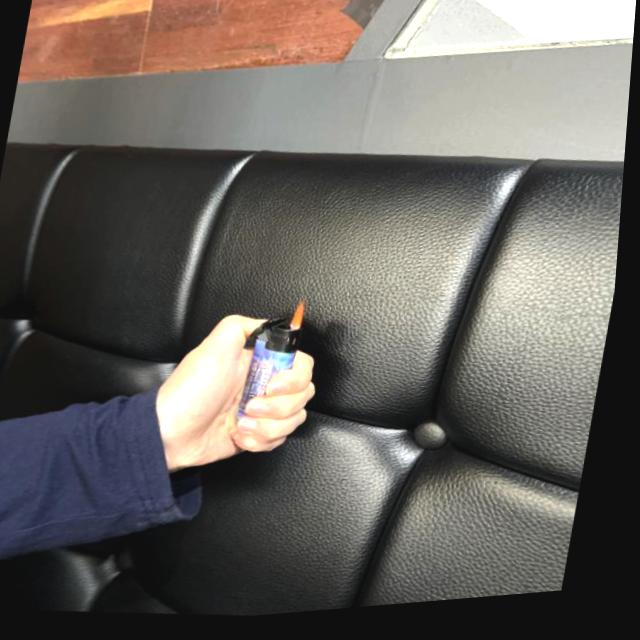helmet: (294, 306, 312, 336)
